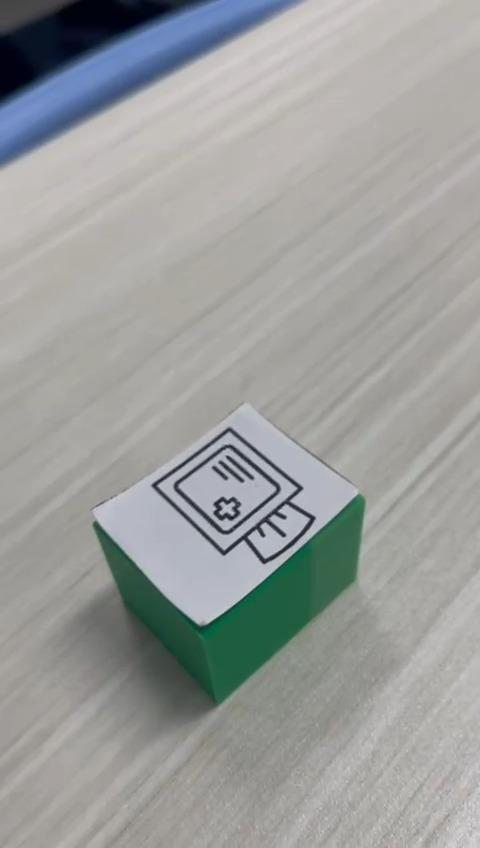Gauze: (90, 400, 366, 706)
